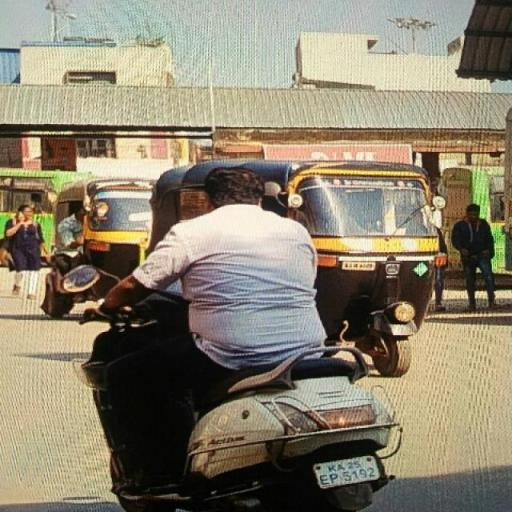bike: (63, 164, 410, 512)
numberplate: (316, 452, 384, 492)
withouthelmet: (206, 168, 260, 208)
